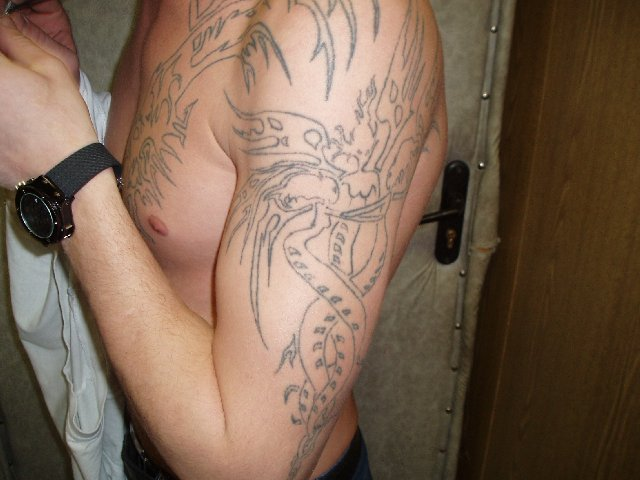tatu6_drakon: (193, 17, 481, 480)
